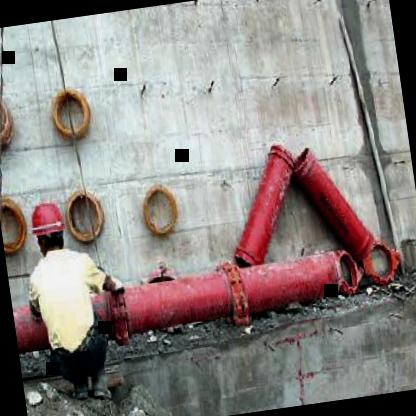helmet: (24, 197, 70, 261)
